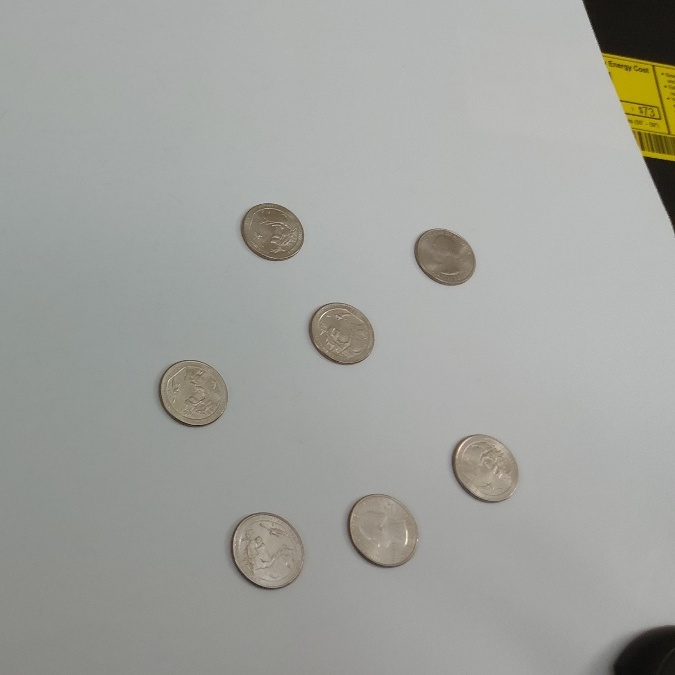coin_quarter: (342, 486, 426, 571), (225, 509, 309, 593), (449, 430, 524, 506), (307, 299, 380, 372), (157, 357, 230, 430), (235, 201, 307, 265), (412, 223, 483, 287)
